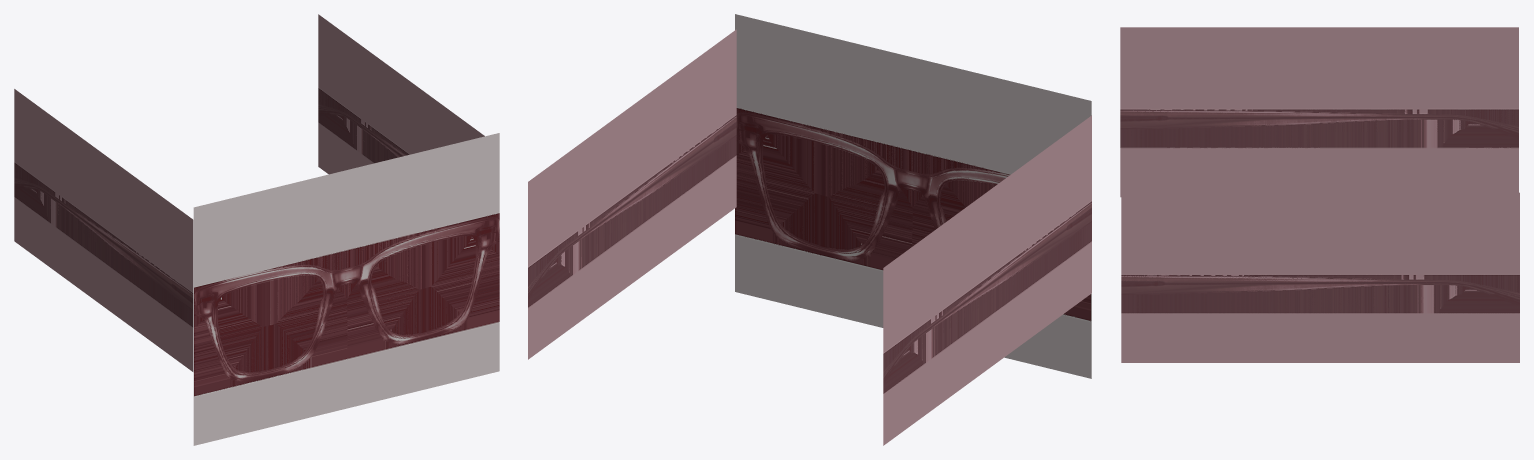
File: broadway-flex-33_red.glb
The picture shows the model from 3 angles, left to right: view 1: azimuth 30°, elevation 25°; view 2: azimuth 150°, elevation 25°; view 3: azimuth 270°, elevation 25°; orthographic projection. The views are drawn at different scales.
Parts seen in each view (by area): view 1: Front, Right, Left; view 2: Front, Left, Right; view 3: Left, Right.
Part boxes in pixels (<box>): Front: <box>193,133,499,445</box>; Right: <box>14,89,193,371</box>; Left: <box>318,14,484,174</box>; Front: <box>735,14,1091,378</box>; Left: <box>528,29,736,359</box>; Right: <box>883,115,1091,445</box>; Left: <box>1121,192,1519,362</box>; Right: <box>1120,27,1518,197</box>.
Bounding box in the file's own units: 147 × 109 × 149.
Materials: 4 (4 with a texture image).
